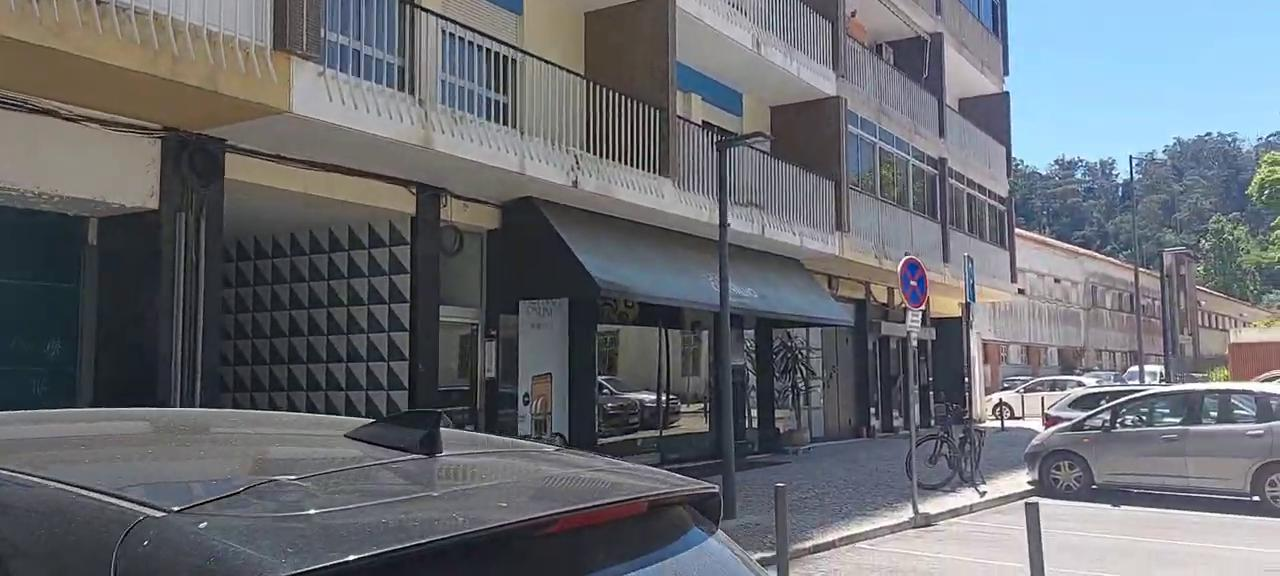paragem e estacionamento proibido: (897, 257, 932, 313)
